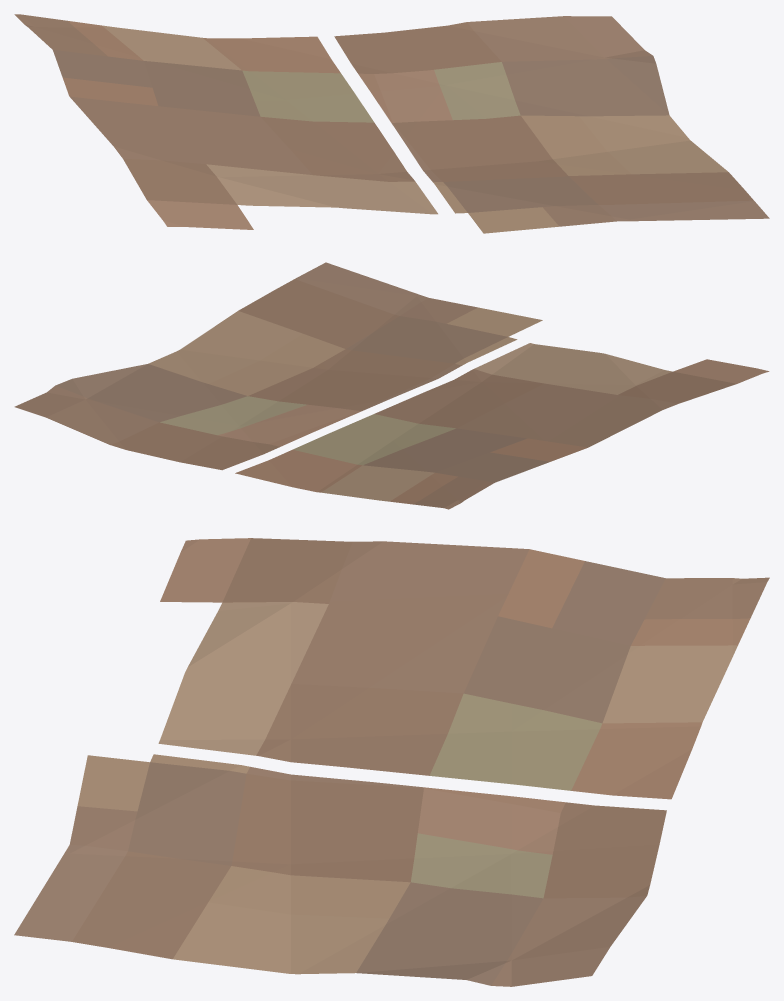
Rendered from farm_0_5_soil.glb.
3 renders of one model, top to bottom at view 1: azimuth 30°, elevation 25°; view 2: azimuth 150°, elevation 25°; view 3: azimuth 270°, elevation 25°, orthographic. The views are drawn at different scales.
Visible parts, largest first — view 1: geometry_0; view 2: geometry_0; view 3: geometry_0.
Part boxes in pixels (bbox=[...]): geometry_0: bbox=[14, 14, 769, 233]; geometry_0: bbox=[14, 262, 769, 509]; geometry_0: bbox=[14, 538, 769, 986].
Bounding box in the file's own units: 308 × 47.4 × 274.
